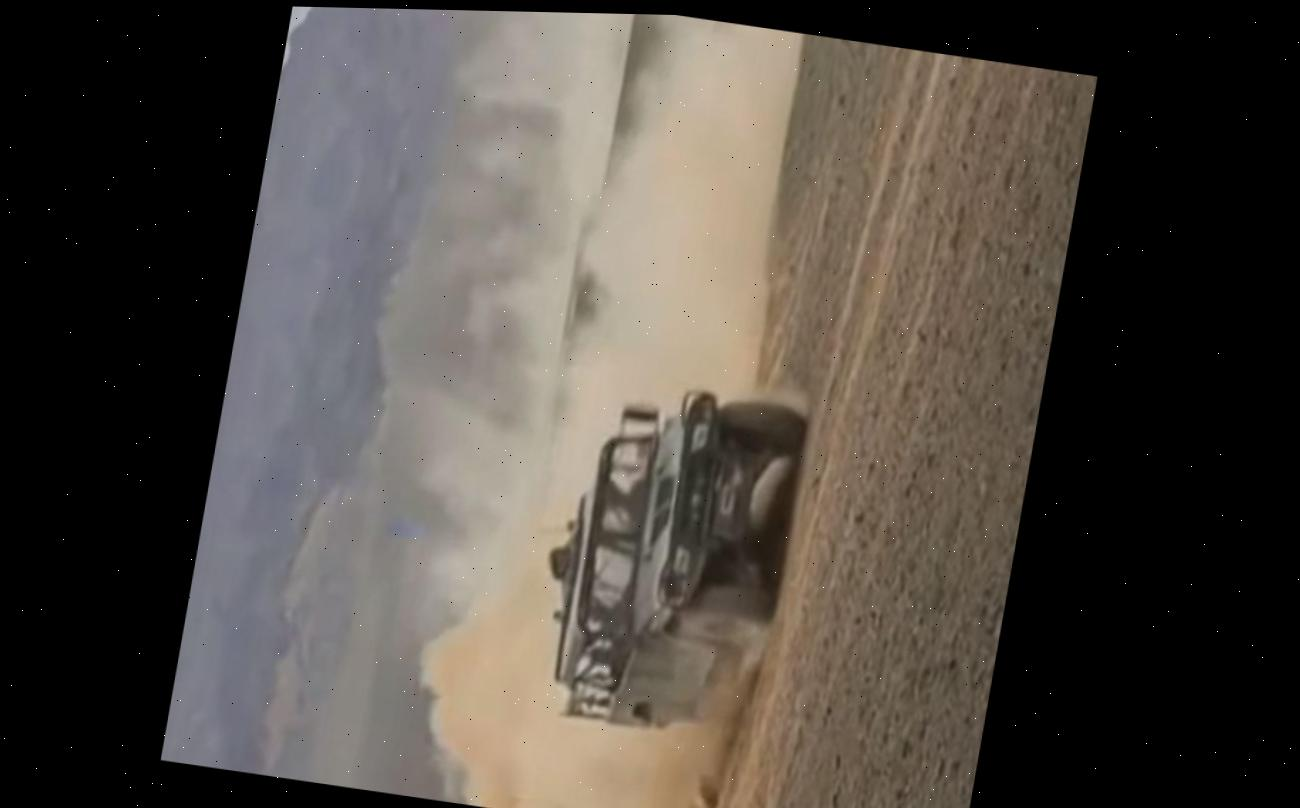armored_car: (521, 370, 815, 746)
